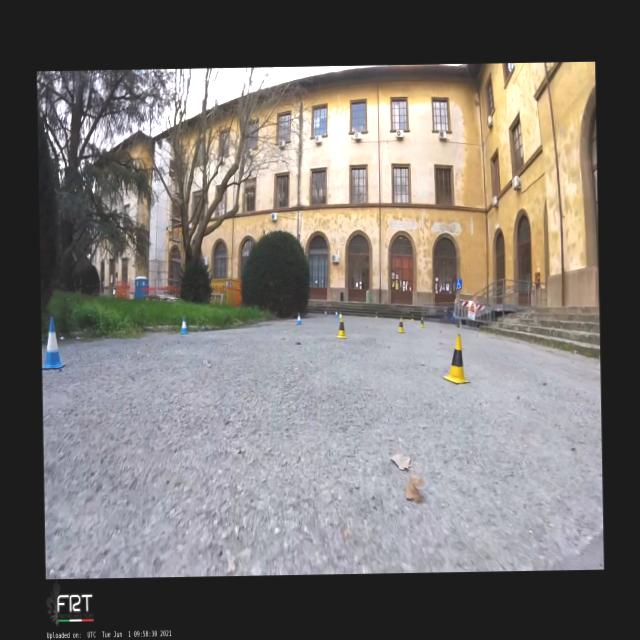blue_cone: (41, 316, 65, 370), (179, 316, 188, 334), (296, 312, 302, 324), (334, 308, 338, 316), (338, 312, 342, 318)
yellow_cone: (442, 332, 469, 384), (336, 316, 346, 338), (396, 316, 405, 333), (419, 316, 424, 328), (411, 314, 414, 322)
